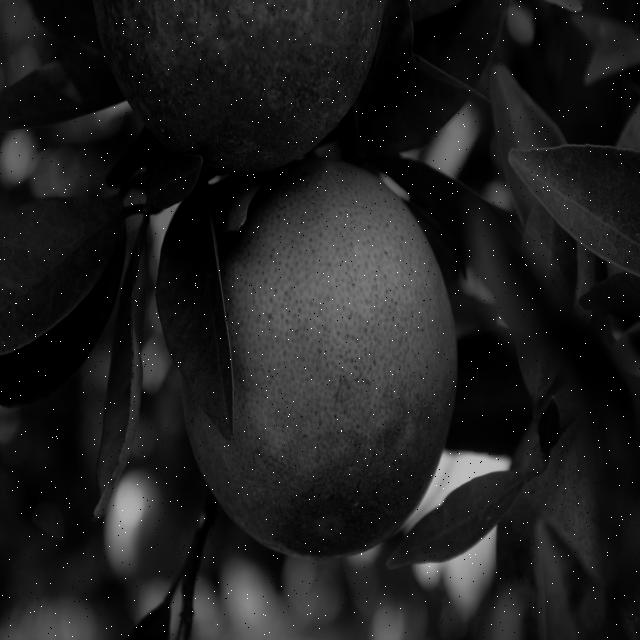healthy: (162, 195, 239, 426), (0, 198, 126, 336), (530, 144, 640, 252), (0, 61, 106, 129)
